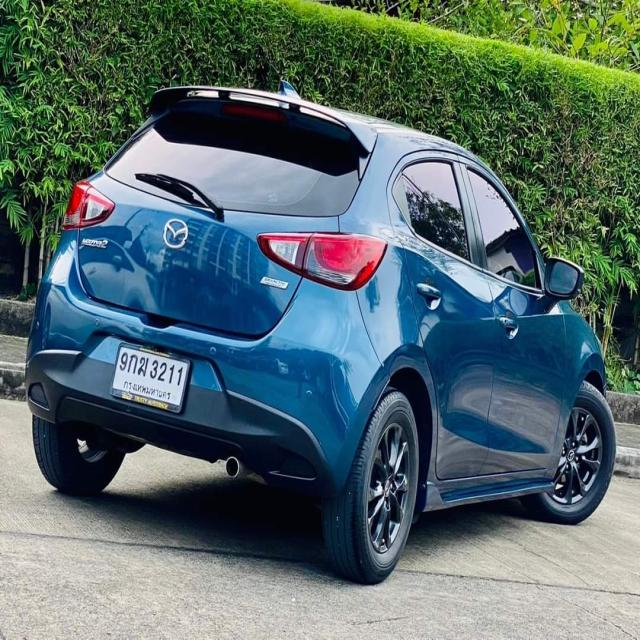license_plate: (108, 336, 195, 417)
